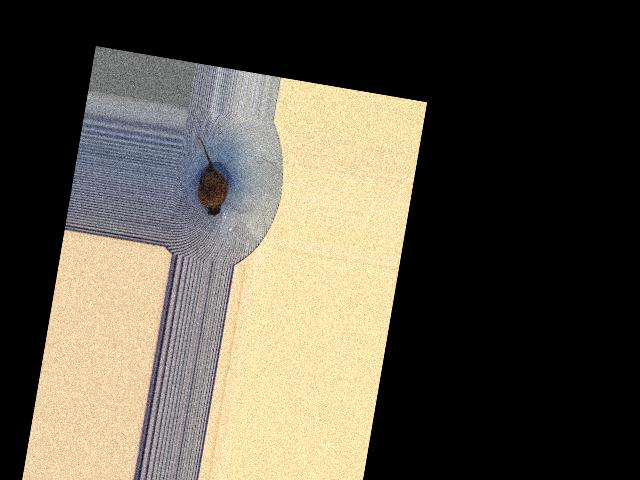beet: (184, 136, 235, 218)
